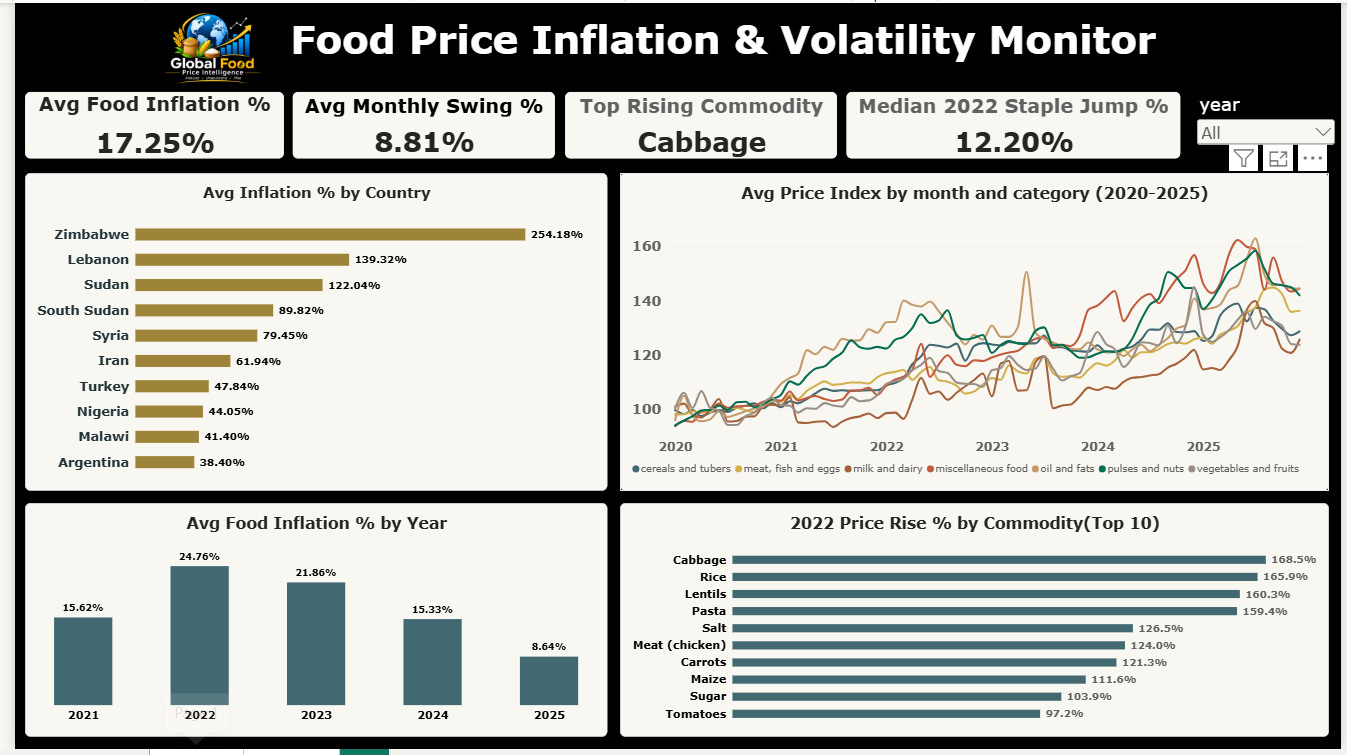

The page's visual inventory and layout, read from the dashboard file:
{"tool":"powerbi","page":{"name":"Page 1","canvas":[1920,1080],"ordinal":0},"visuals":[{"type":"cardVisual","fields":{"Data":["fact_volatility_country.Avg Food Inflation %"]},"box":[14,129.1,375,97.7],"z":3},{"type":"cardVisual","fields":{"Data":["fact_volatility_country.Avg Monthly Swing %"]},"box":[401.2,129.1,380.2,97.7],"z":4},{"type":"cardVisual","fields":{"Data":["fact_volatility_country.Top Rising Commodity"]},"box":[797.1,129.1,394.2,97.7],"z":5},{"type":"cardVisual","fields":{"Data":["fact_volatility_country.Median 2022 Staple Jump %"]},"box":[1203.5,129.1,484.9,97.7],"z":7},{"type":"columnChart","title":"Avg Food Inflation % by Year","fields":{"Category":["fact_country_inflation.year"],"Y":["fact_volatility_country.Avg Food Inflation %"]},"box":[14.5,723.9,843.3,338.4],"z":9},{"type":"clusteredBarChart","title":"Avg Inflation % by Country","fields":{"Category":["fact_country_inflation.country_name"],"Y":["Avg(fact_country_inflation.avg_inflation_pct)"]},"box":[14.5,246.1,843.3,459.7],"z":11},{"type":"lineChart","title":"Avg Price Index by month and category (2020-2025)","fields":{"Category":["fact_usd_index.ym"],"Series":["fact_usd_index.category"],"Y":["Avg(fact_usd_index.avg_index)"]},"box":[875.9,246.1,1026.1,459.7],"z":13},{"type":"clusteredBarChart","title":"2022 Price Rise % by Commodity(Top 10)","fields":{"Category":["dim_commodity.commodity"],"Y":["Max(fact_commodity_inflation.price_rise_pct)"]},"box":[875.9,723.9,1026.1,338.4],"z":14},{"type":"textbox","box":[14.5,18.1,1887.5,92.3],"z":15},{"type":"slicer","fields":{"Values":["dim_date.year"]},"box":[1705.8,129.1,209.3,97.7],"z":16},{"type":"image","box":[135.7,10.9,300.4,110.4],"z":17}]}

Visuals, with their boxes in screenshot pixels (x1, y1, x2, y2), scaled from the page's 1920x1080 canvas onto the 1347x755 screenshot:
cardVisual - fact_volatility_country.Avg Food Inflation %: [left=10, top=90, right=273, bottom=159]
cardVisual - fact_volatility_country.Avg Monthly Swing %: [left=281, top=90, right=548, bottom=159]
cardVisual - fact_volatility_country.Top Rising Commodity: [left=559, top=90, right=836, bottom=159]
cardVisual - fact_volatility_country.Median 2022 Staple Jump %: [left=844, top=90, right=1185, bottom=159]
"Avg Food Inflation % by Year" columnChart: [left=10, top=506, right=602, bottom=743]
"Avg Inflation % by Country" clusteredBarChart: [left=10, top=172, right=602, bottom=493]
"Avg Price Index by month and category (2020-2025)" lineChart: [left=614, top=172, right=1334, bottom=493]
"2022 Price Rise % by Commodity(Top 10)" clusteredBarChart: [left=614, top=506, right=1334, bottom=743]
textbox: [left=10, top=13, right=1334, bottom=77]
slicer - dim_date.year: [left=1197, top=90, right=1344, bottom=159]
image: [left=95, top=8, right=306, bottom=85]
